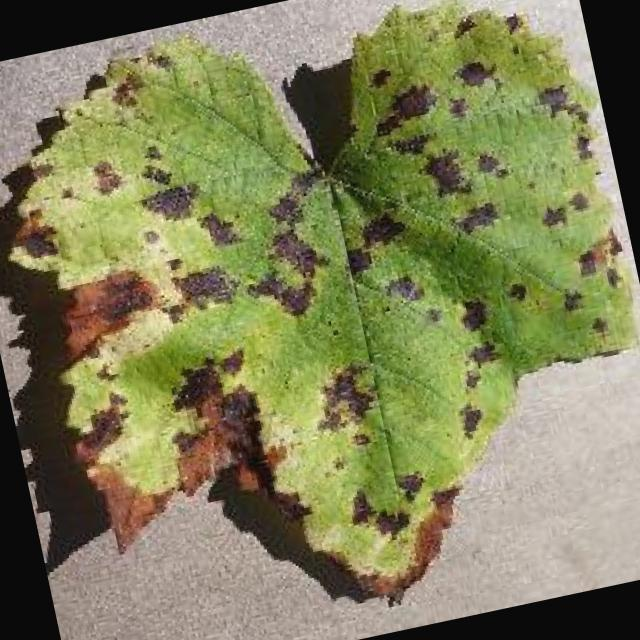leaf_spot: (10, 6, 634, 597)
